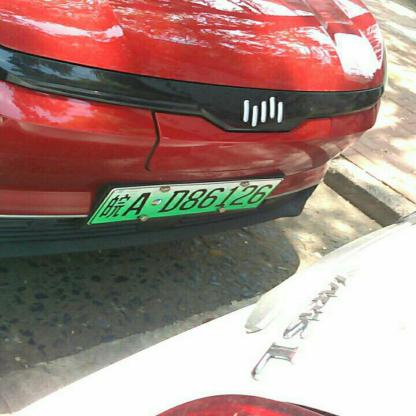lp: (91, 180, 281, 223)
